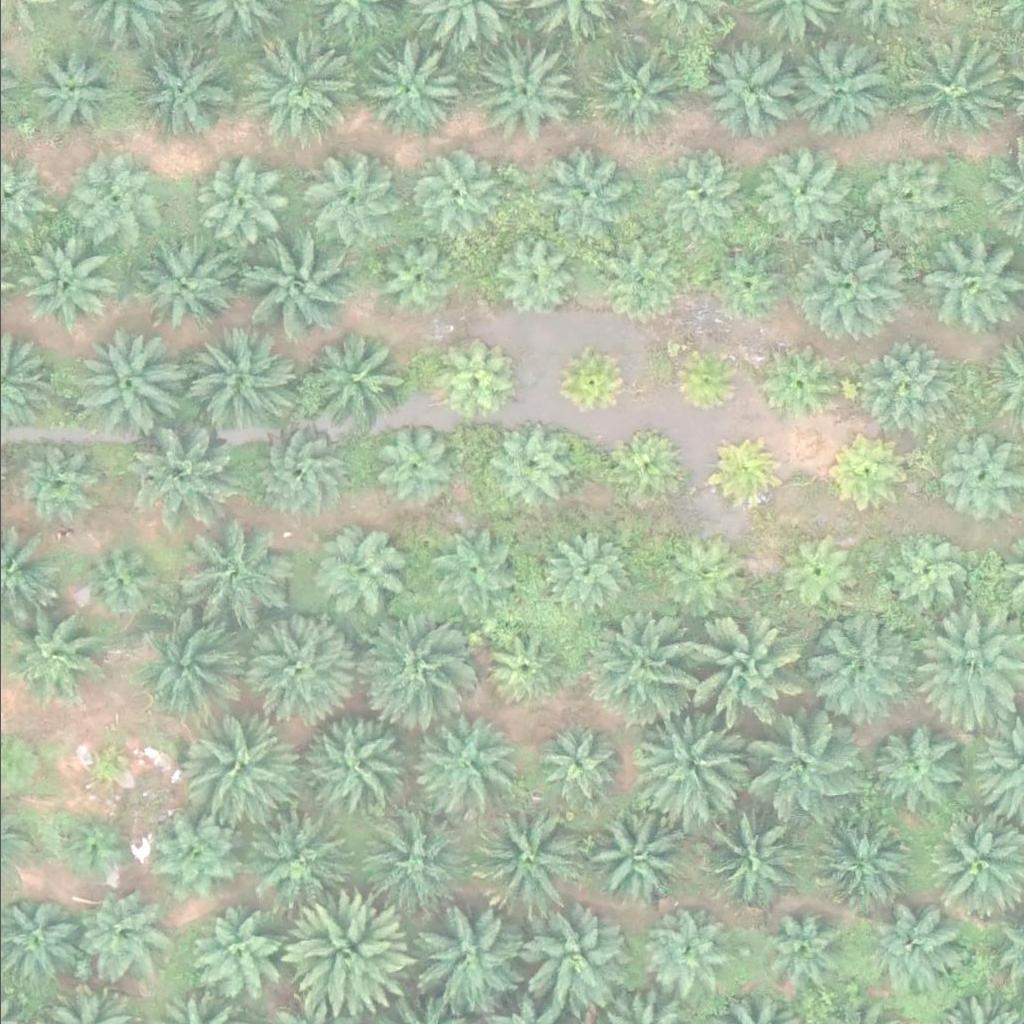Kelapa_Sawit: (282, 895, 408, 1020), (416, 897, 530, 1010), (73, 321, 187, 434), (687, 798, 801, 911), (469, 799, 582, 912), (357, 803, 470, 916), (302, 710, 415, 823), (241, 607, 354, 720), (344, 30, 457, 143), (235, 31, 348, 144), (742, 715, 855, 828), (584, 614, 697, 727), (793, 229, 906, 342), (889, 28, 1002, 141), (511, 904, 624, 1017), (138, 607, 252, 719), (177, 324, 291, 436), (679, 620, 793, 732), (401, 703, 514, 815), (184, 708, 297, 820), (350, 605, 463, 717), (133, 418, 246, 530), (239, 222, 352, 334), (637, 710, 750, 822), (806, 607, 919, 719), (248, 807, 349, 907), (147, 809, 248, 909), (178, 515, 279, 615), (302, 328, 403, 428), (134, 231, 235, 331), (297, 152, 398, 252), (477, 41, 578, 141), (584, 810, 685, 910), (872, 715, 973, 815), (785, 37, 886, 137), (702, 42, 803, 142), (585, 41, 686, 141), (533, 148, 634, 248), (313, 522, 413, 622), (245, 420, 345, 520), (863, 904, 963, 1004), (807, 811, 907, 911), (129, 42, 230, 141), (73, 889, 161, 977), (476, 622, 564, 710), (74, 536, 162, 624), (483, 417, 571, 505), (14, 243, 102, 331), (411, 143, 499, 231), (703, 239, 791, 327), (585, 239, 673, 327), (531, 722, 619, 810), (775, 525, 863, 613), (652, 530, 740, 618), (747, 149, 835, 237), (655, 150, 743, 238), (425, 522, 514, 609), (193, 907, 281, 994), (367, 419, 455, 506), (5, 441, 93, 528), (487, 235, 575, 322), (363, 232, 451, 319), (80, 155, 168, 242), (195, 158, 283, 245), (29, 49, 117, 136), (742, 908, 830, 995), (637, 913, 725, 1000), (877, 528, 965, 615), (543, 529, 631, 616), (867, 343, 955, 430), (858, 155, 946, 242), (609, 424, 685, 499), (52, 808, 128, 883), (429, 341, 505, 416), (556, 346, 632, 421), (705, 439, 781, 514), (764, 349, 839, 424), (667, 341, 742, 416), (828, 439, 903, 514), (77, 734, 140, 796)
